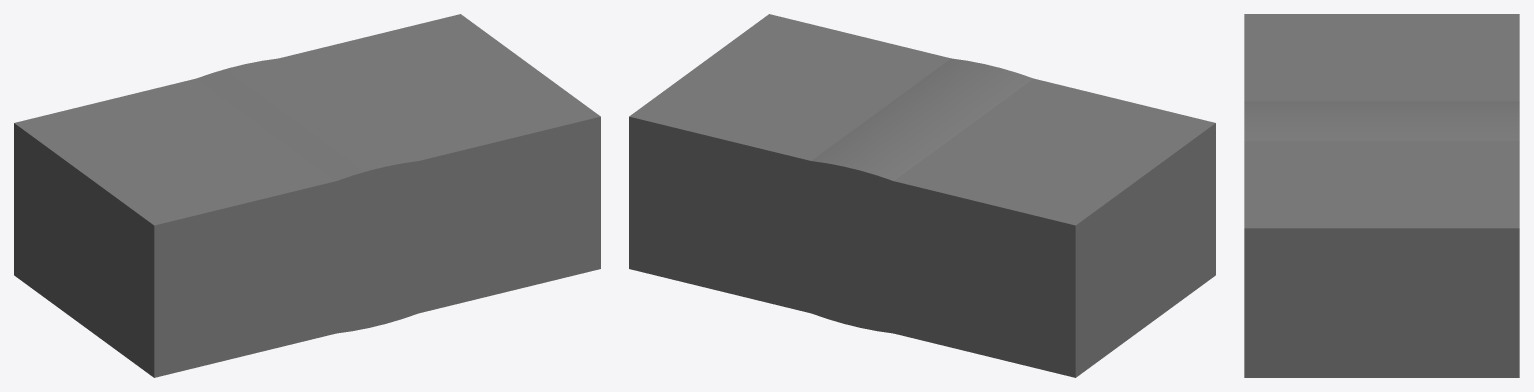
The picture shows the model from 3 angles, left to right: view 1: azimuth 30°, elevation 25°; view 2: azimuth 150°, elevation 25°; view 3: azimuth 270°, elevation 25°; orthographic projection.
Parts seen in each view (by area): view 1: mesh_id4, mesh_id5; view 2: mesh_id4, mesh_id5; view 3: mesh_id4, mesh_id5.
Part boxes in pixels (bbox=[...]): mesh_id4: bbox=[14, 14, 600, 377]; mesh_id5: bbox=[196, 58, 418, 333]; mesh_id4: bbox=[629, 14, 1215, 377]; mesh_id5: bbox=[811, 58, 1033, 333]; mesh_id4: bbox=[1244, 14, 1519, 377]; mesh_id5: bbox=[1244, 101, 1519, 140].
Size of the model in its own units: 0.512 by 0.1723 by 0.2783.
2 materials, 2 textured.
